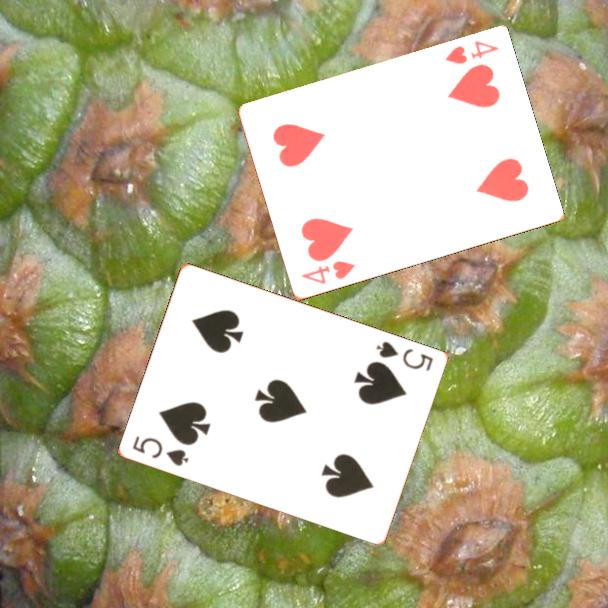h04: (441, 37, 502, 68), (298, 258, 358, 287)
s05: (373, 337, 437, 374), (129, 432, 192, 469)
